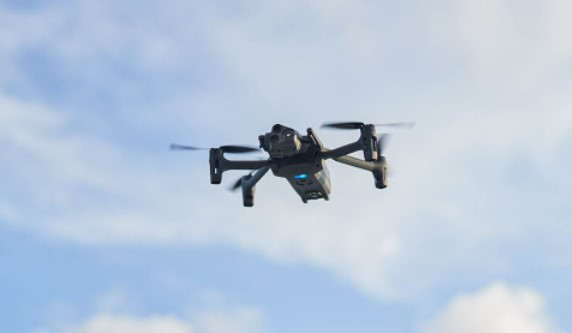drone: (170, 117, 410, 209)
